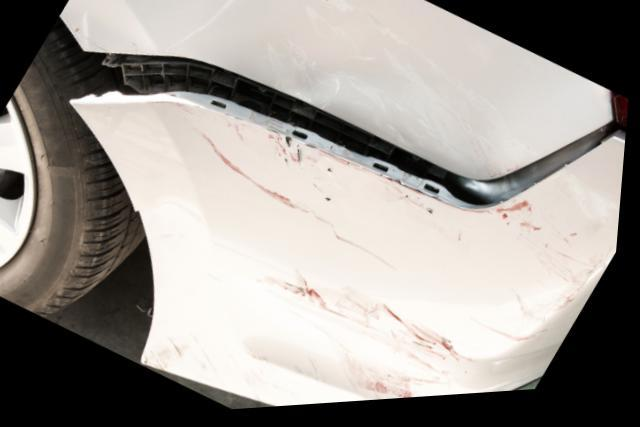dent: (241, 66, 513, 187)
dislocated part: (69, 53, 629, 410)
scratch: (156, 118, 604, 407)
